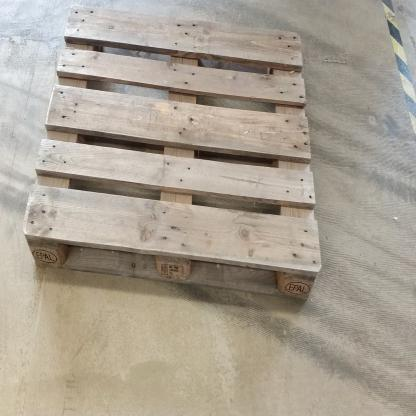BoxFace: (17, 2, 327, 315)
